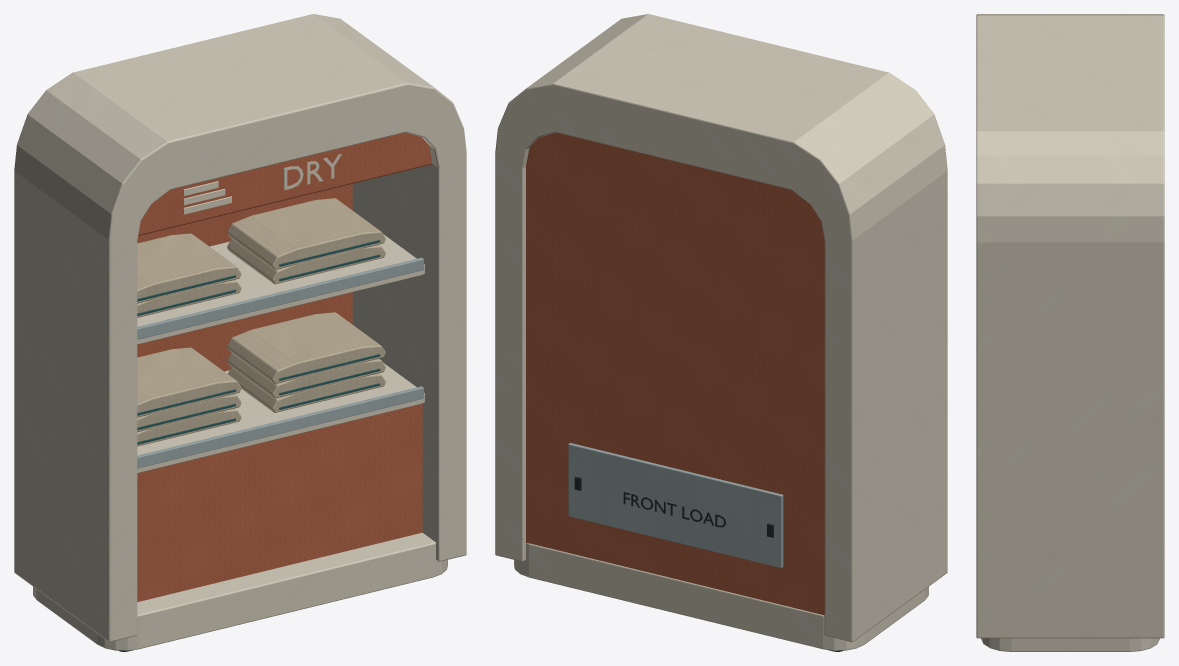
File: AST-AQU-007.glb
The picture shows the model from 3 angles, left to right: view 1: azimuth 30°, elevation 25°; view 2: azimuth 150°, elevation 25°; view 3: azimuth 270°, elevation 25°; orthographic projection.
Visible parts, largest first — view 1: AST-AQU-007__fixed__ivory_enamel, AST-AQU-007__fixed__aquatic_clay_sling, AST-AQU-007__fixed__oatmeal_weave, AST-AQU-007__fixed__aquatic_satin_alloy, AST-AQU-007__fixed__teal_weave; view 2: AST-AQU-007__fixed__ivory_enamel, AST-AQU-007__fixed__aquatic_clay_sling, AST-AQU-007__fixed__aquatic_satin_alloy, AST-AQU-007__fixed__aquatic_dark_grip; view 3: AST-AQU-007__fixed__ivory_enamel.
Part boxes in pixels (box(x1,y1,x2,y2)): AST-AQU-007__fixed__ivory_enamel: box(14, 14, 466, 650); AST-AQU-007__fixed__aquatic_clay_sling: box(137, 132, 431, 601); AST-AQU-007__fixed__oatmeal_weave: box(137, 198, 385, 446); AST-AQU-007__fixed__aquatic_satin_alloy: box(137, 257, 423, 468); AST-AQU-007__fixed__teal_weave: box(137, 240, 380, 444); AST-AQU-007__fixed__ivory_enamel: box(495, 14, 947, 650); AST-AQU-007__fixed__aquatic_clay_sling: box(526, 132, 824, 615); AST-AQU-007__fixed__aquatic_satin_alloy: box(568, 443, 783, 568); AST-AQU-007__fixed__aquatic_dark_grip: box(574, 476, 842, 651); AST-AQU-007__fixed__ivory_enamel: box(976, 14, 1164, 651).
Size of the model in its own units: 1.34 by 1.82 by 0.62.
6 materials, 6 textured.
